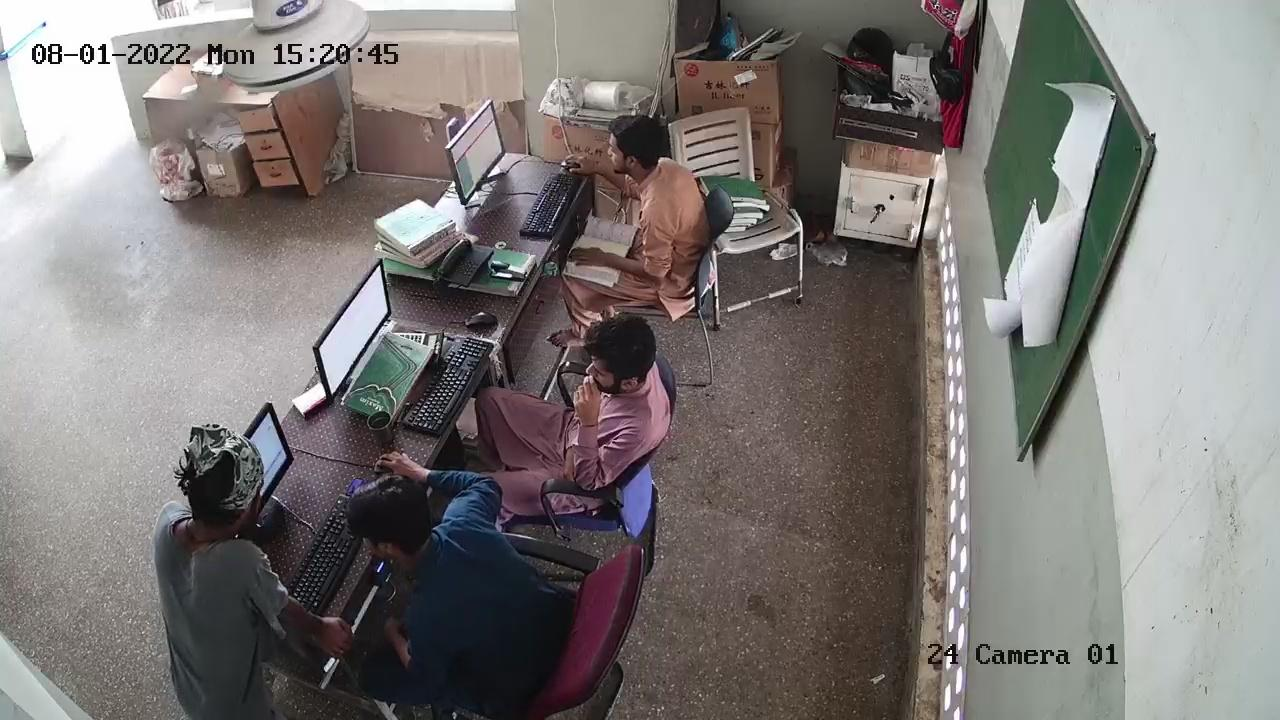person: (337, 457, 560, 678), (155, 428, 274, 720), (492, 315, 672, 490), (570, 112, 694, 325)
